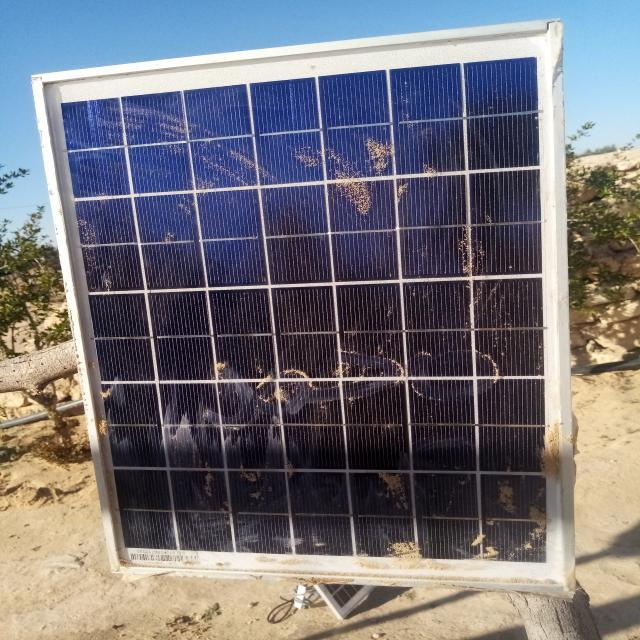faulty: (35, 20, 578, 594)
